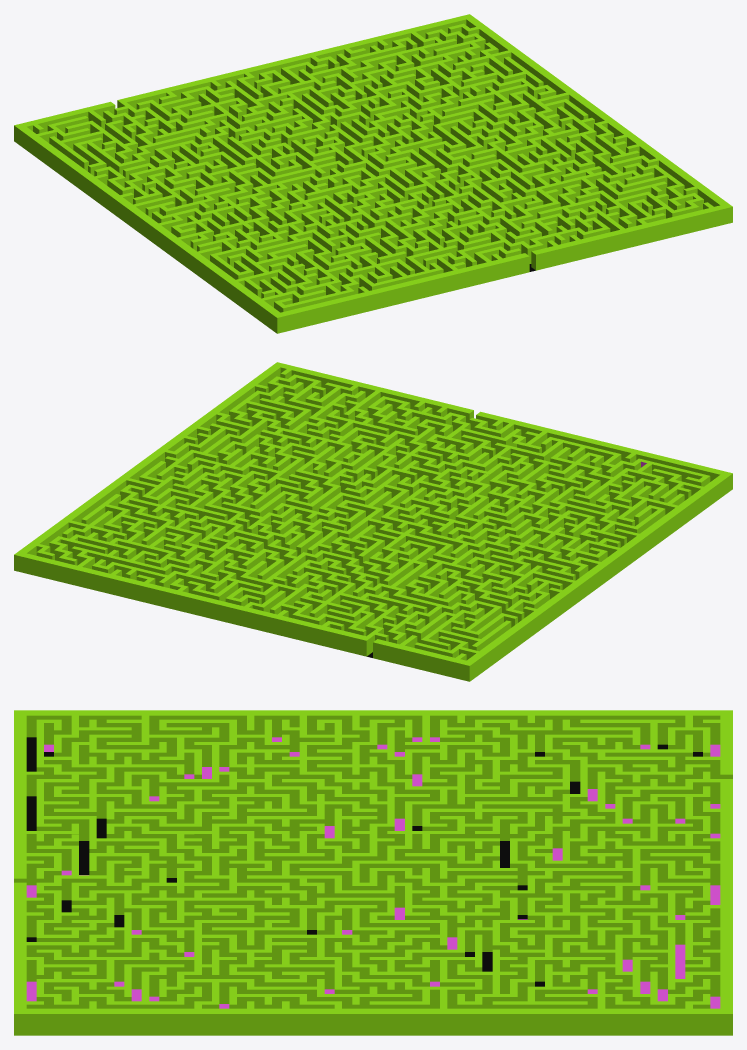
File: MAZE4.fbx
3 renders of one model, top to bottom at view 1: azimuth 30°, elevation 25°; view 2: azimuth 150°, elevation 25°; view 3: azimuth 270°, elevation 25°, orthographic. The views are drawn at different scales.
Visible parts, largest first — view 1: Plane; view 2: Plane; view 3: Plane.
Boxes of the visible parts, x1=… form: Plane: x1=14, y1=14, x2=732, y2=333; Plane: x1=14, y1=362, x2=732, y2=681; Plane: x1=14, y1=710, x2=732, y2=1035.
Bounding box in the file's own units: 3000 × 105 × 3000.
